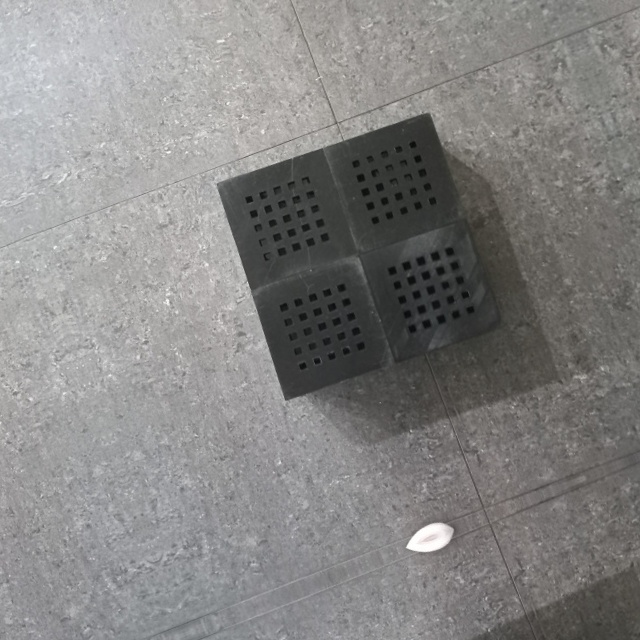pallet: (206, 103, 513, 410)
